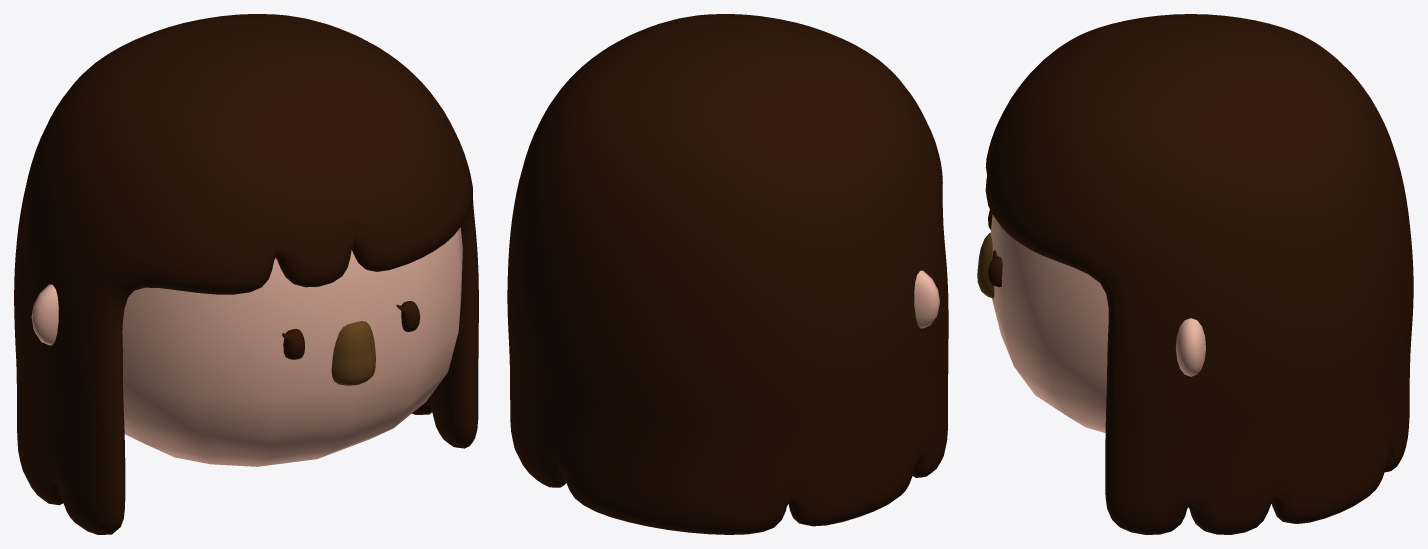
File: molly.glb
3 views of the same model, side by side, from view 1: azimuth 30°, elevation 25°; view 2: azimuth 150°, elevation 25°; view 3: azimuth 270°, elevation 25° (orthographic). The views are drawn at different scales.
Visible parts, largest first — view 1: hair, face, nose, ear, eye; view 2: hair, ear; view 3: hair, face, ear, nose.
Part boxes in pixels (<box>): hair: <box>14,14,478,534</box>; face: <box>122,227,462,466</box>; nose: <box>331,321,375,385</box>; ear: <box>31,284,58,345</box>; eye: <box>282,301,420,359</box>; hair: <box>507,14,948,534</box>; ear: <box>914,270,939,328</box>; hair: <box>985,14,1413,534</box>; face: <box>990,215,1108,432</box>; ear: <box>1175,318,1205,376</box>; nose: <box>977,233,994,298</box>.
Size of the model in its own units: 1.95 by 1.83 by 1.77.
